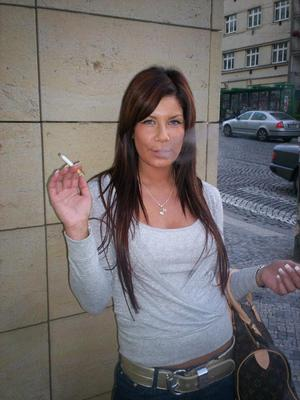person: (46, 59, 300, 400)
